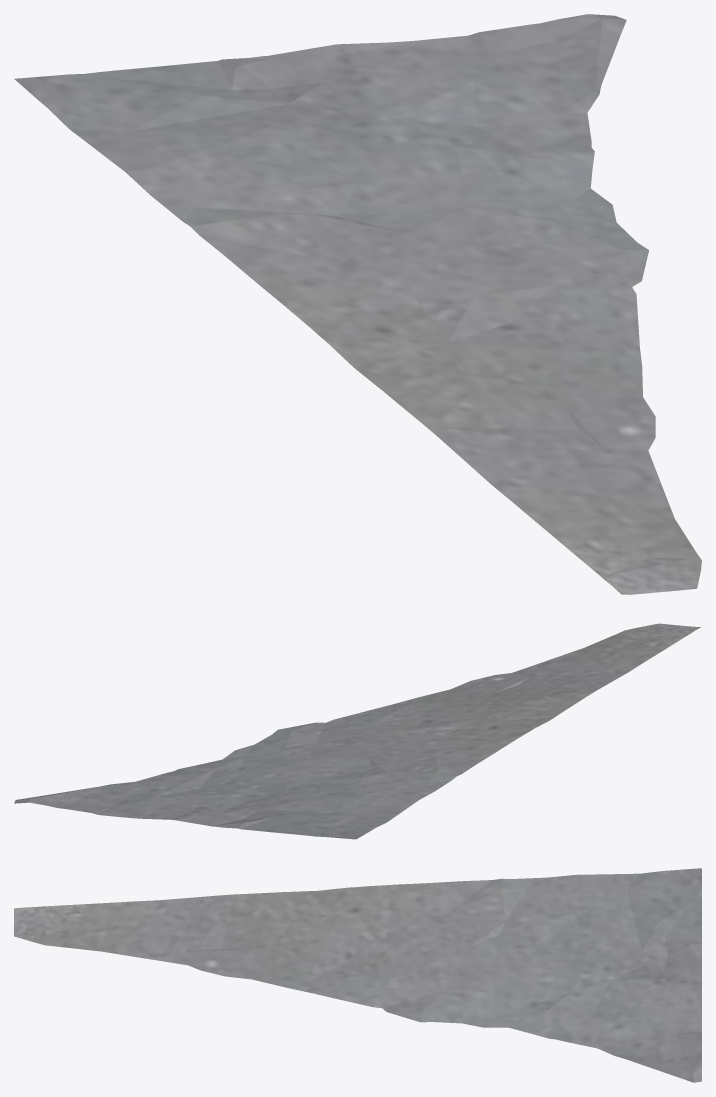
3 renders of one model, top to bottom at view 1: azimuth 30°, elevation 25°; view 2: azimuth 150°, elevation 25°; view 3: azimuth 270°, elevation 25°, orthographic. The views are drawn at different scales.
Bounding box in the file's own units: 1.93 × 0.2543 × 3.35.
Materials: 1 (1 with a texture image).
